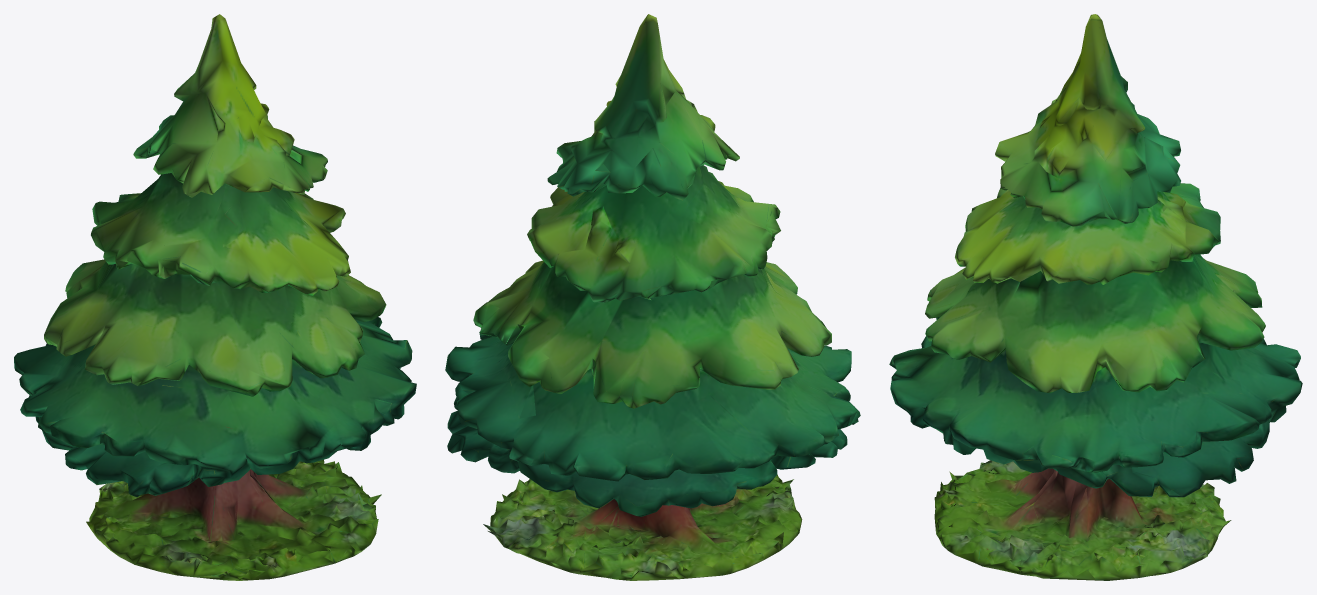
The model's file is treeB05.fbx.
3 renders of one model, left to right at view 1: azimuth 30°, elevation 25°; view 2: azimuth 150°, elevation 25°; view 3: azimuth 270°, elevation 25°, orthographic. The views are drawn at different scales.
Visible parts, largest first — view 1: treeB05; view 2: treeB05; view 3: treeB05.
Part boxes in pixels (box(x1,y1,x2,y2)): treeB05: box(14, 14, 416, 580); treeB05: box(445, 14, 860, 580); treeB05: box(889, 14, 1302, 580).
Bounding box in the file's own units: 86.24 × 115 × 85.22.
Materials: 1 (1 with a texture image).
